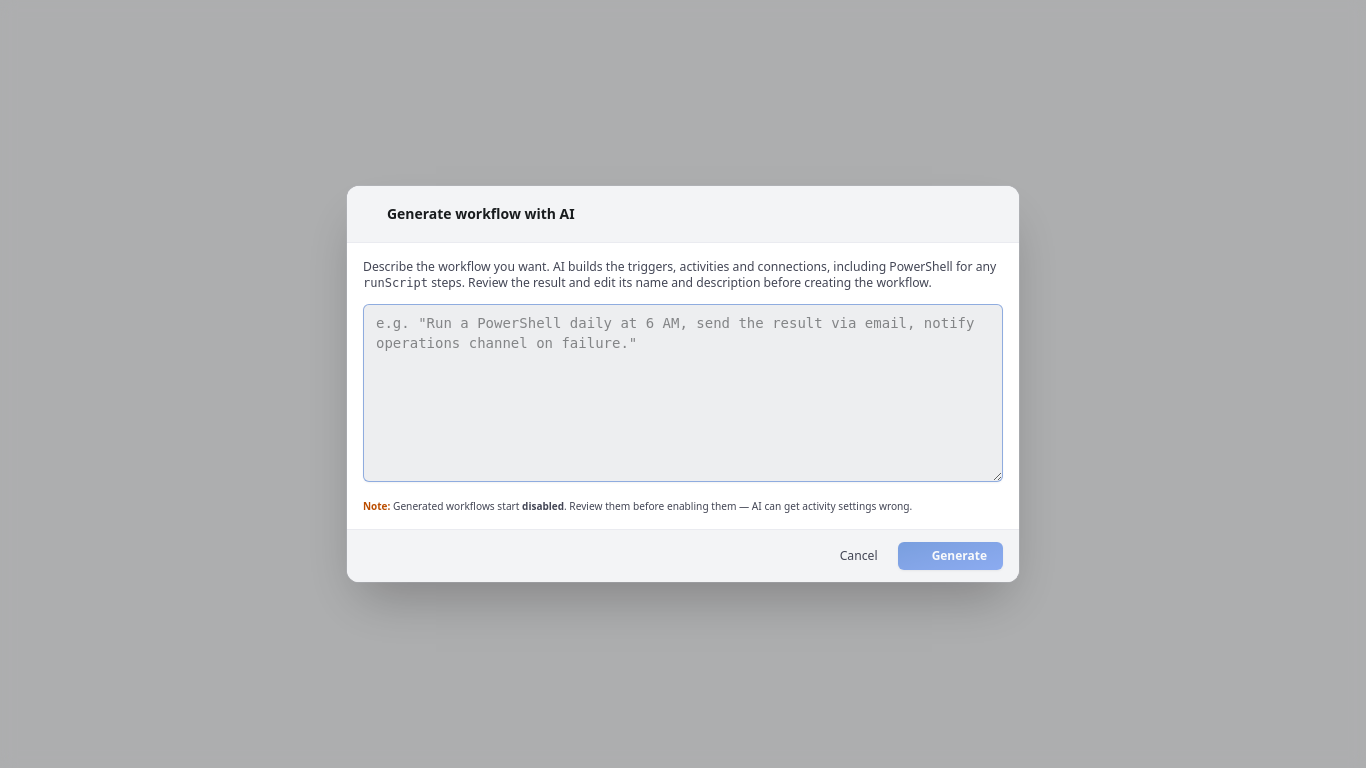
Test: WorkflowGenerationDialog › successful generate transitions to preview stage with suggested name + description
Replace the text in the text box named "Workflow prompt" with "cleanup" at (683, 393), box [363,304,1003,482]
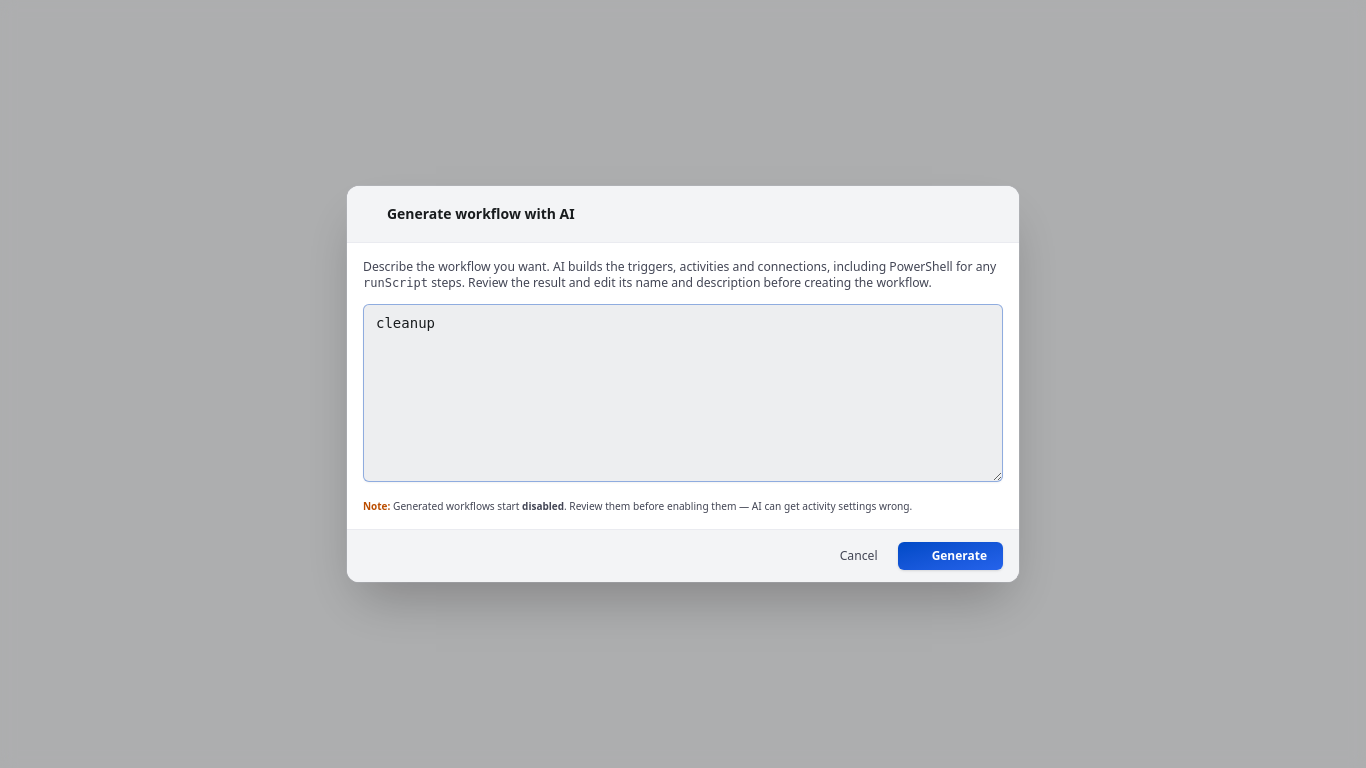
Click the button "Generate".
click(950, 556)  # box [898,542,1003,570]
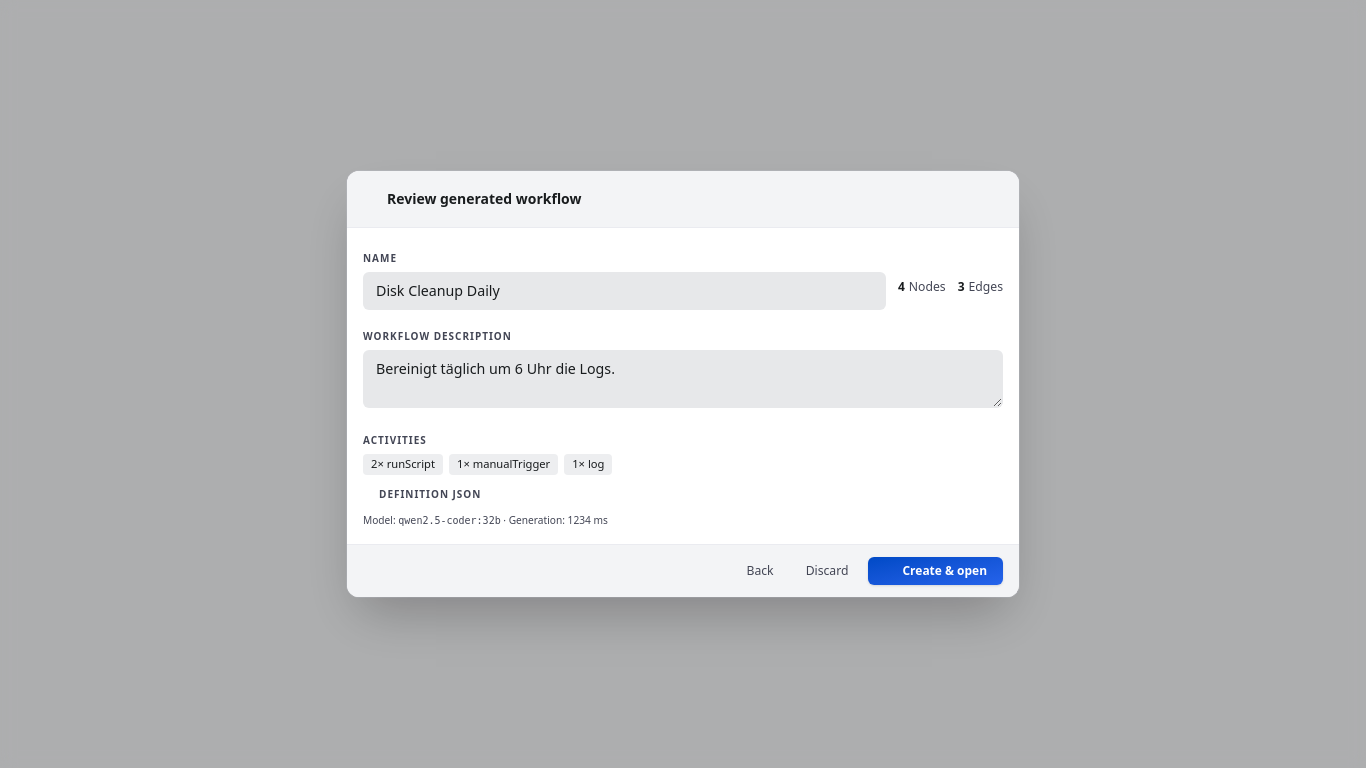
Expected: the text "Review generated workflow" is shown, [387,189,581,209]
Expected: the field named "Workflow name" holds "Disk Cleanup Daily", [363,272,886,310]
Expected: the text box labelled "Workflow description" holds "Bereinigt täglich um 6 Uhr die Logs.", [363,350,1003,408]
